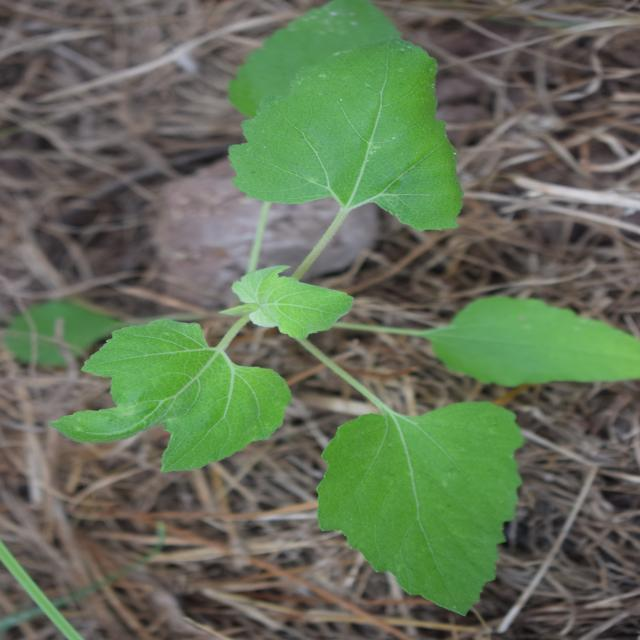cocklebur: (29, 78, 592, 565)
